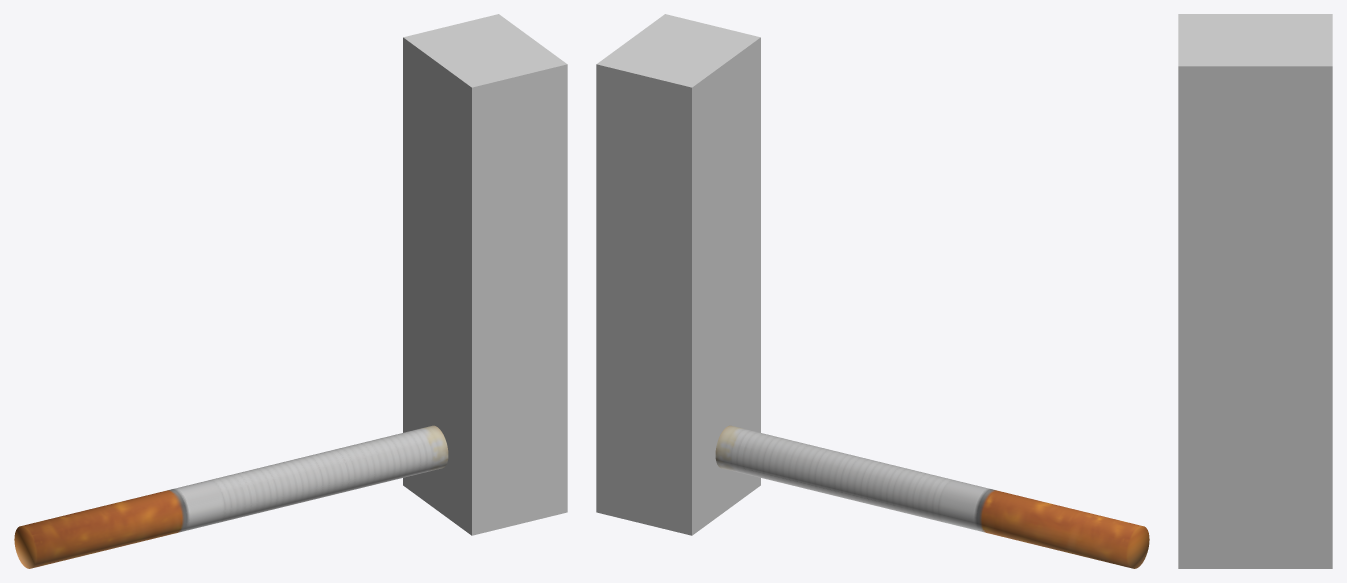
The picture shows the model from 3 angles, left to right: view 1: azimuth 30°, elevation 25°; view 2: azimuth 150°, elevation 25°; view 3: azimuth 270°, elevation 25°; orthographic projection. The views are drawn at different scales.
Parts seen in each view (by area): view 1: Smoke Domain, Cylinder; view 2: Smoke Domain, Cylinder; view 3: Smoke Domain.
Part boxes in pixels (<box>): Smoke Domain: <box>403,14,567,535</box>; Cylinder: <box>14,425,448,568</box>; Smoke Domain: <box>596,14,760,535</box>; Cylinder: <box>715,425,1149,568</box>; Smoke Domain: <box>1178,14,1332,568</box>.
Bounding box in the file's own units: 1068 × 901 × 250.
